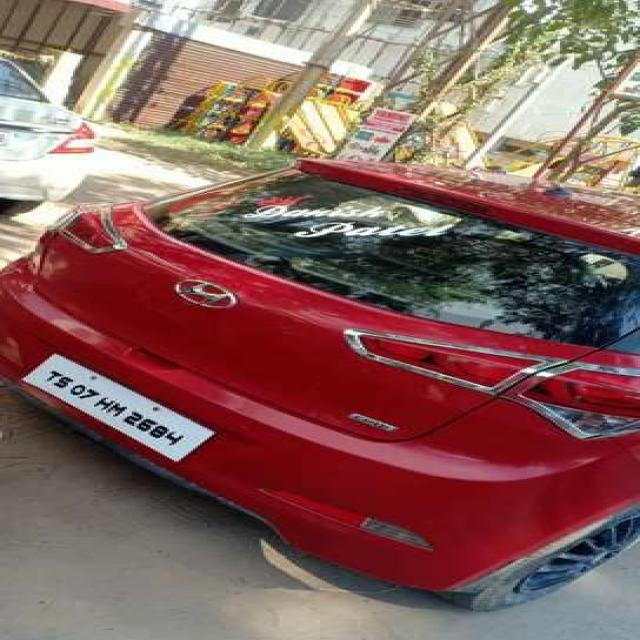Plate: (20, 353, 215, 463)
